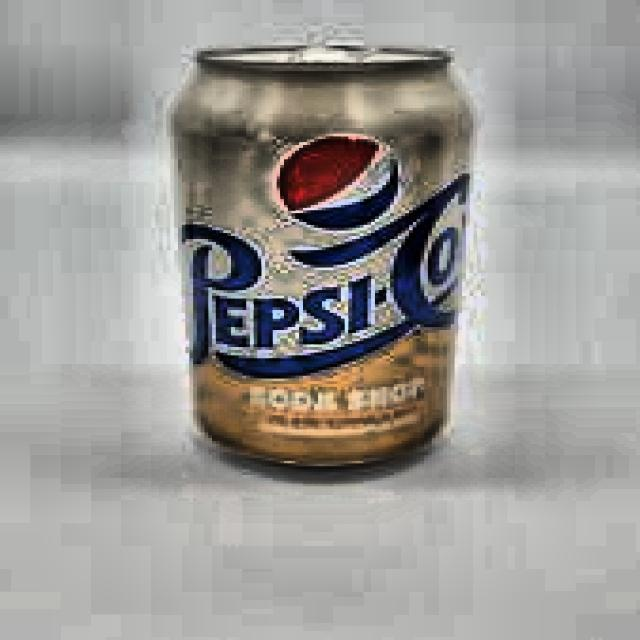Cans: (155, 28, 485, 494)
